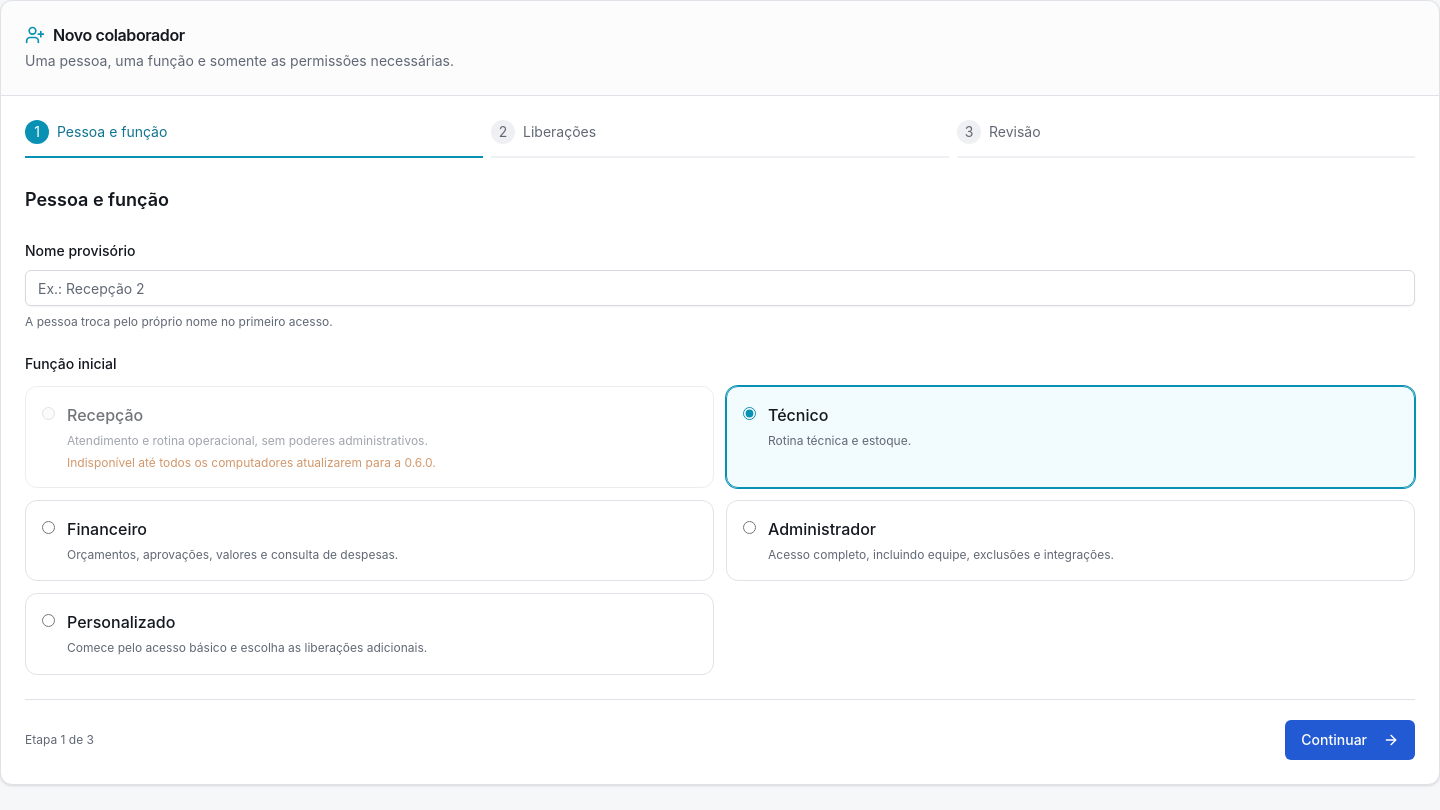
cadastro guiado de colaboradores › impede duplicidade inclusive com caixa diferente
Step 1. Type "operador" into the field labelled "Nome provisório" → (720, 288), box [25,270,1415,306]
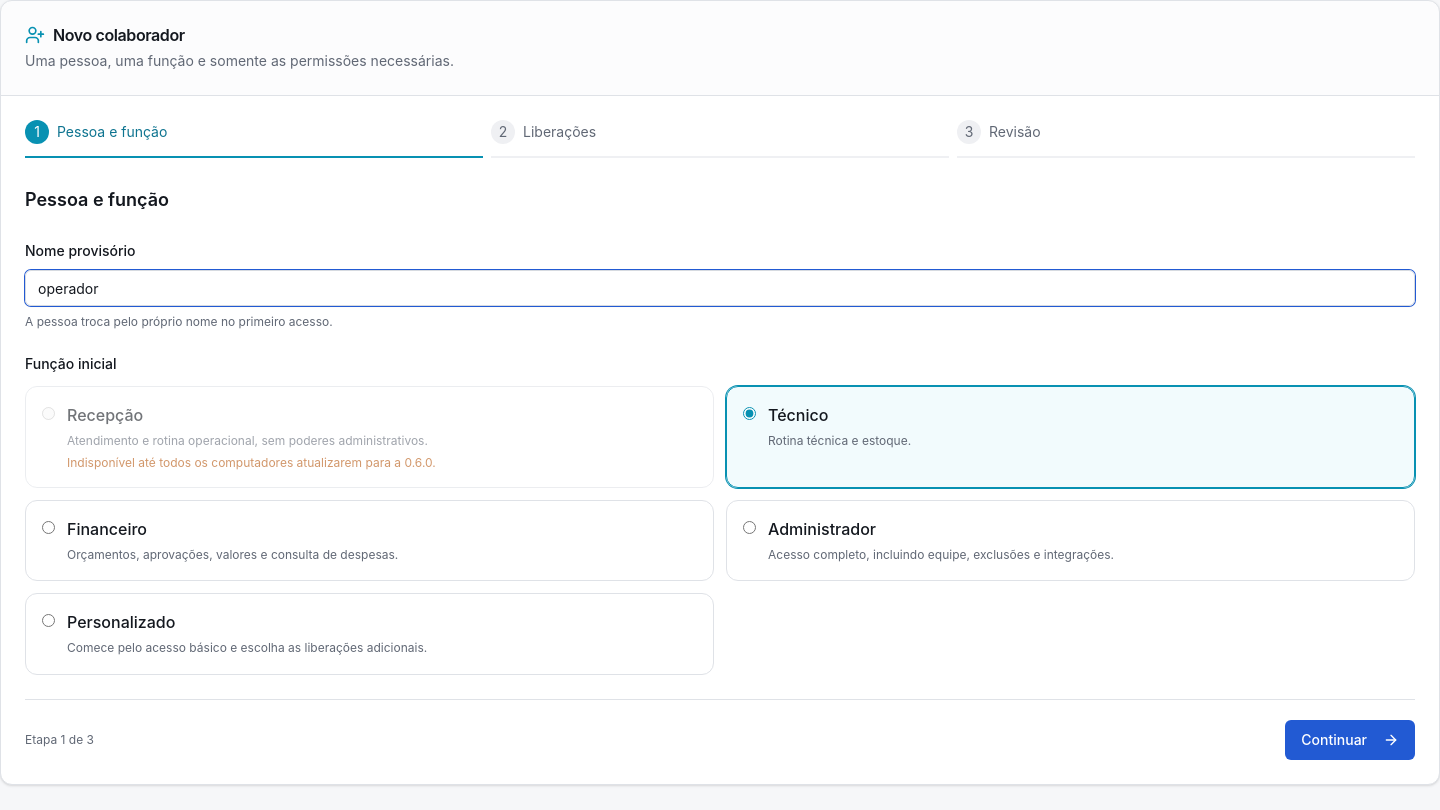
Step 2. Click the button "Continuar" → (1350, 740), box [1285,720,1415,760]
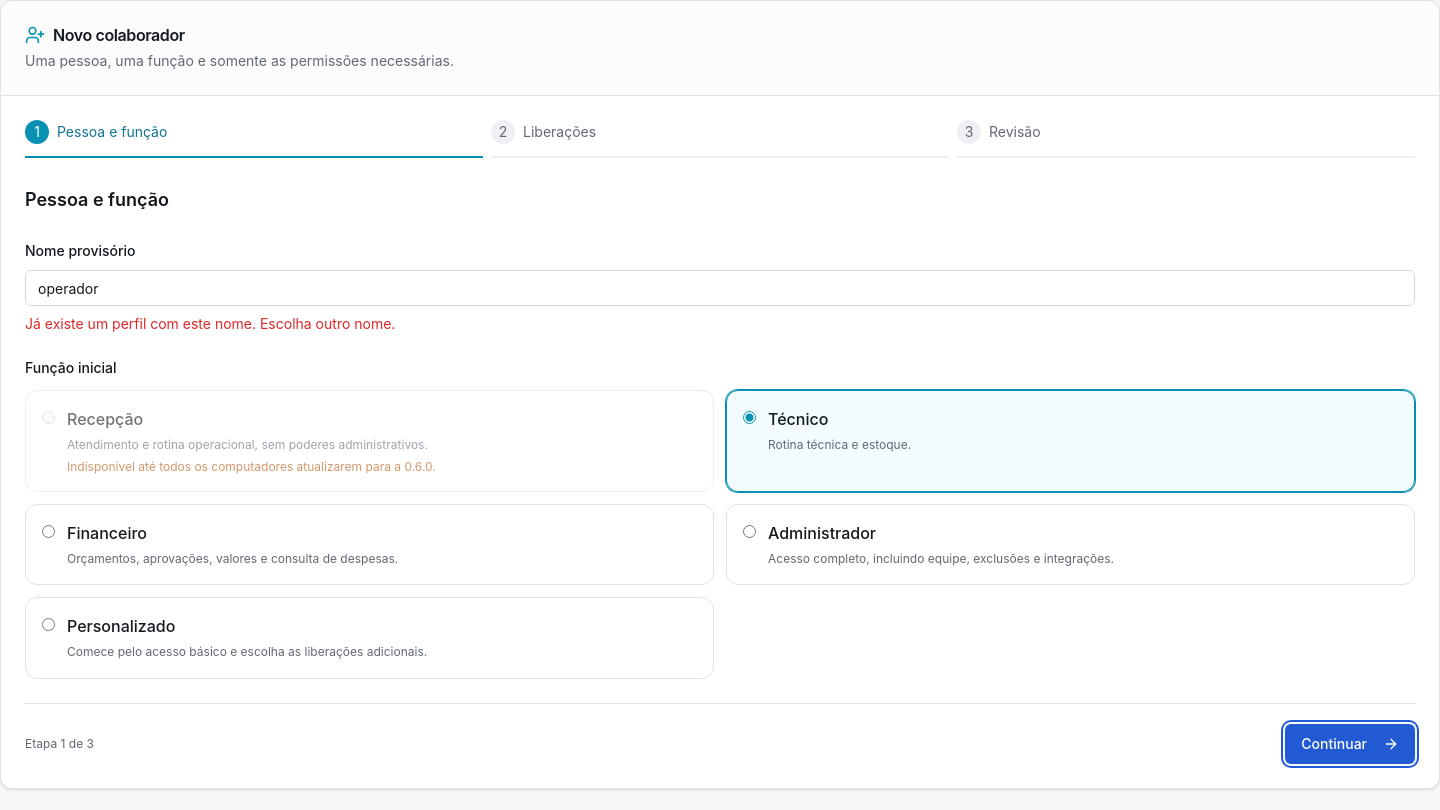
Now the message shows "Já existe um perfil", box [25,315,395,332]
